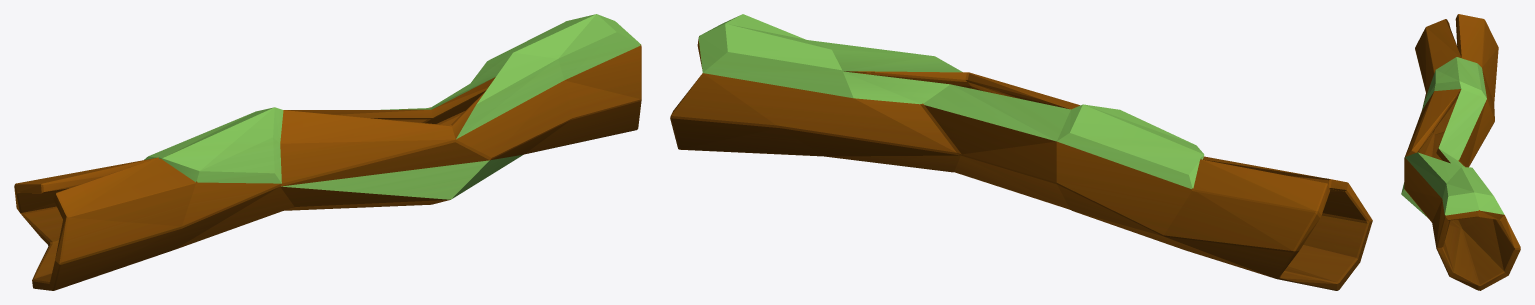
File: log_mossy.glb
3 views of the same model, side by side, from view 1: azimuth 30°, elevation 25°; view 2: azimuth 150°, elevation 25°; view 3: azimuth 270°, elevation 25° (orthographic). The views are drawn at different scales.
Parts seen in each view (by area): view 1: Wooden Log_1_5_A; view 2: Wooden Log_1_5_A; view 3: Wooden Log_1_5_A.
Part boxes in pixels (box(x1,y1,x2,y2)): Wooden Log_1_5_A: box(14, 14, 641, 290); Wooden Log_1_5_A: box(670, 14, 1372, 290); Wooden Log_1_5_A: box(1401, 14, 1520, 290).
Size of the model in its own units: 1.8 by 0.35 by 0.43.
1 material, 1 textured.
